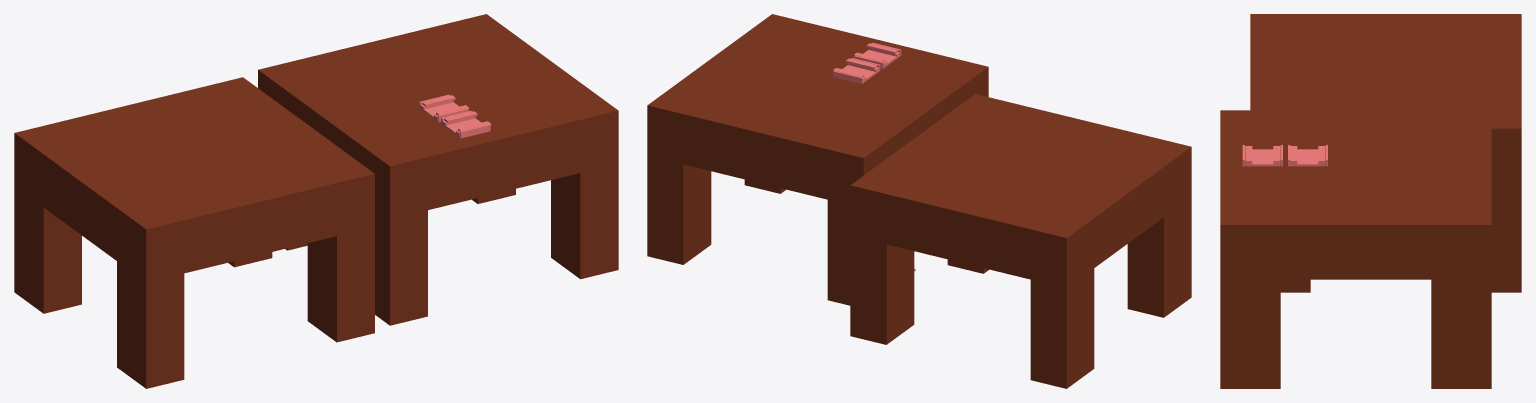
The model's file is keva_double_station_right.dae.
3 renders of one model, left to right at view 1: azimuth 30°, elevation 25°; view 2: azimuth 150°, elevation 25°; view 3: azimuth 270°, elevation 25°, orthographic. The views are drawn at different scales.
Visible parts, largest first — view 1: base (×7); view 2: base (×7); view 3: base (×8).
Part boxes in pixels (x1,y1,x2,y2): base (×7): (14, 14, 618, 388); base (×7): (647, 14, 1191, 388); base (×8): (1220, 14, 1521, 388).
Size of the model in its own units: 1.8 by 0.9991 by 0.6908.
